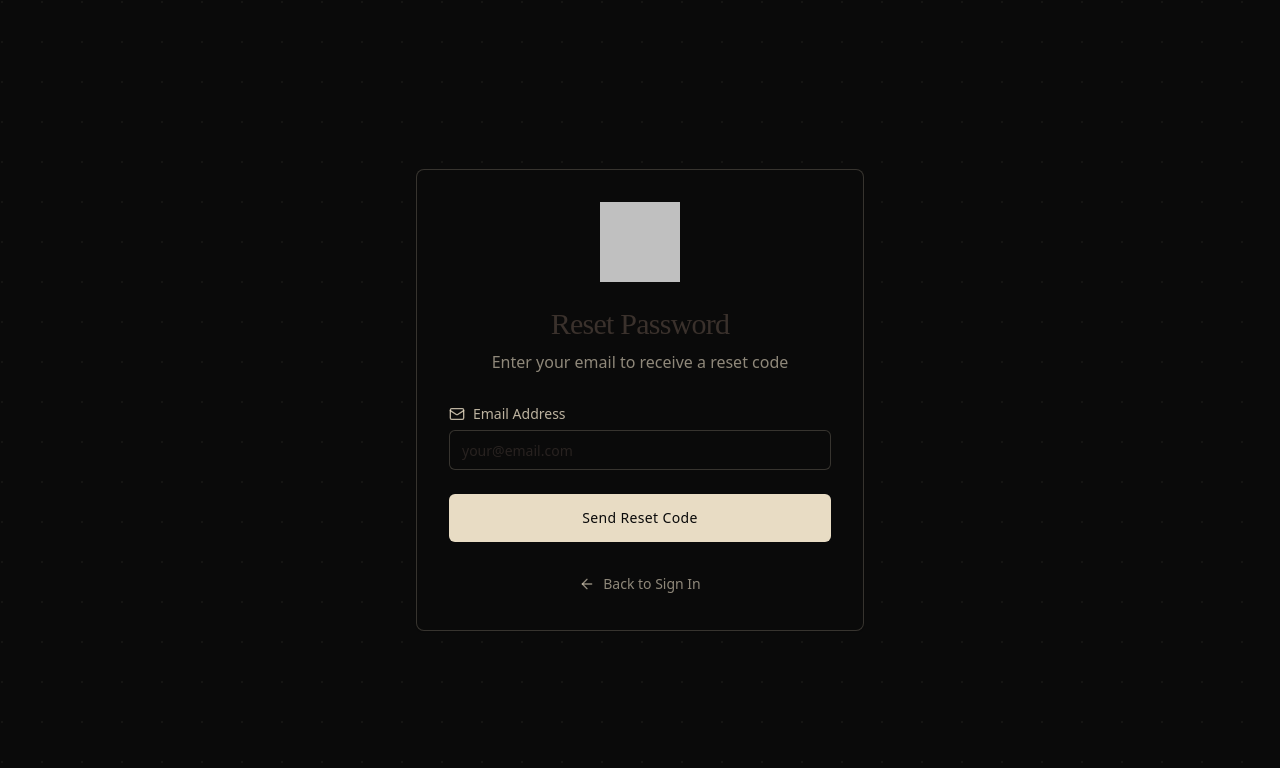
it: ForgotPasswordPage › submits the email, calls Clerk, and shows the code entry state
The image size is (1280, 768).
Type "chef@example.com" into the field labelled "Email Address". click: {"x": 640, "y": 450}
box: left=449, top=430, right=831, bottom=470
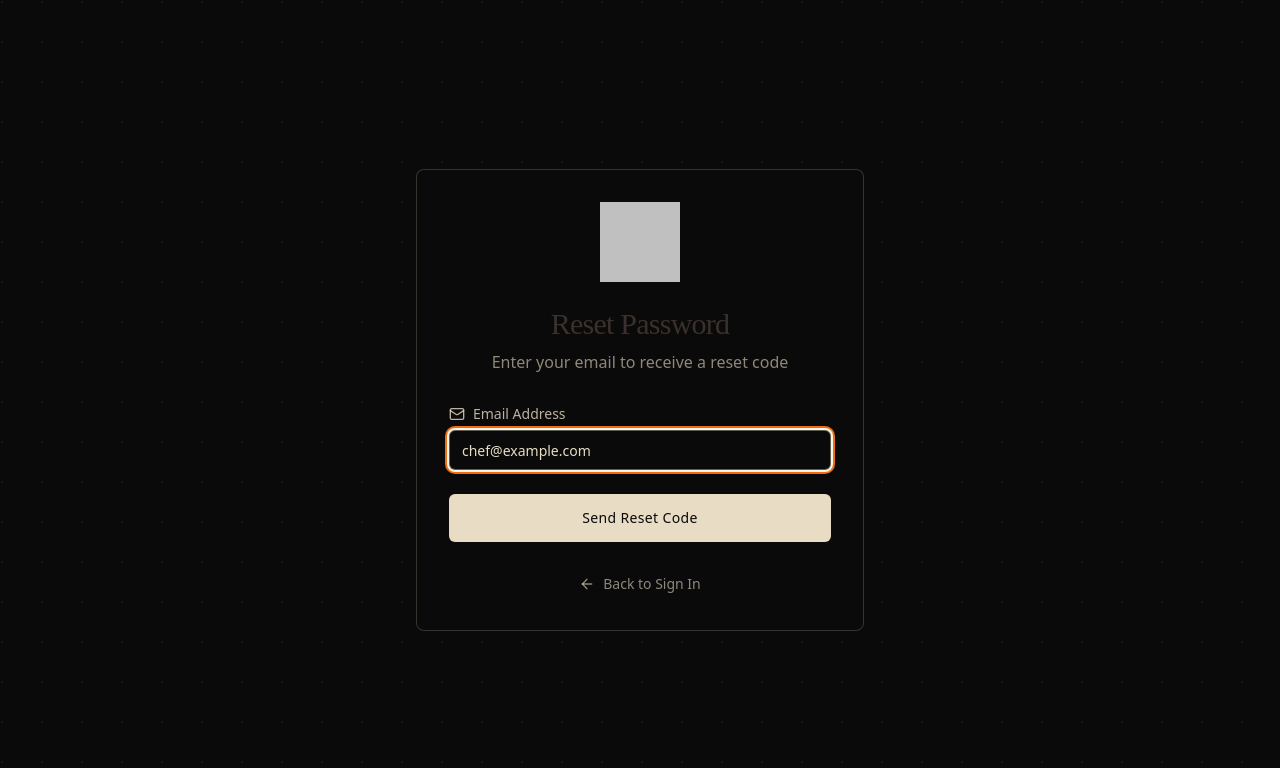
Click the button "Send Reset Code". click: {"x": 640, "y": 518}
box: left=449, top=494, right=831, bottom=542
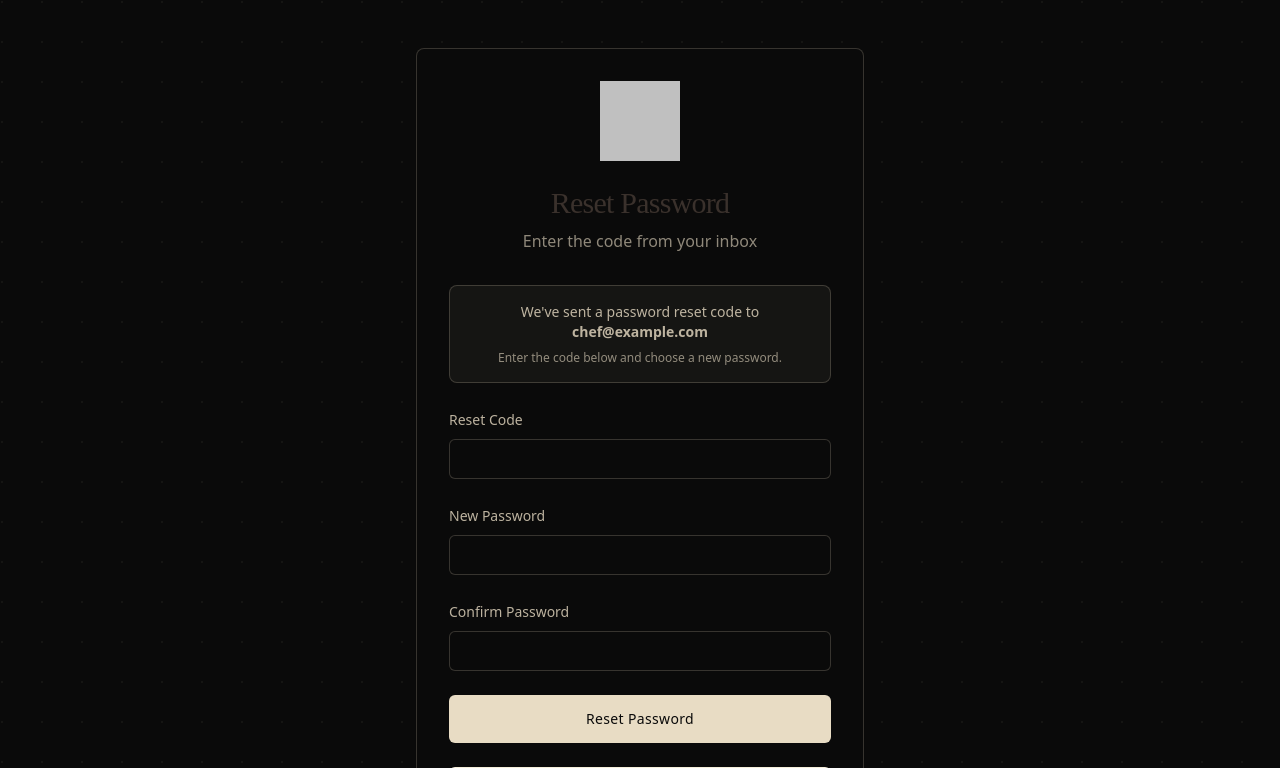
Check: the text "We've sent a password reset code to chef@example.com" is shown, box left=521, top=302, right=759, bottom=341
Check: the field labelled "Reset Code" is shown, box left=449, top=439, right=831, bottom=479
